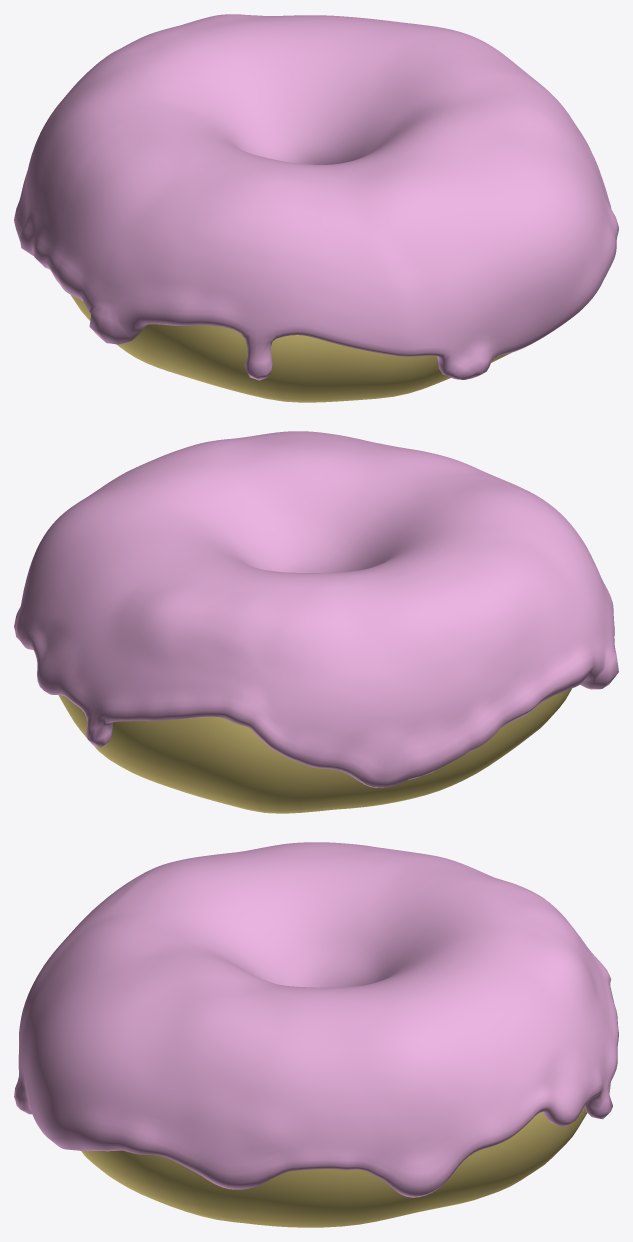
The model's file is NEWDonutnolight.fbx.
The picture shows the model from 3 angles, top to bottom: view 1: azimuth 30°, elevation 25°; view 2: azimuth 150°, elevation 25°; view 3: azimuth 270°, elevation 25°; orthographic projection.
Visible parts, largest first — view 1: Icing, Torus; view 2: Icing, Torus; view 3: Icing, Torus.
Boxes of the visible parts, x1,y1,x2,y2 form: Icing: (14, 14, 618, 380); Torus: (70, 294, 510, 402); Icing: (14, 431, 618, 787); Torus: (58, 688, 571, 813); Icing: (14, 842, 618, 1197); Torus: (81, 1106, 587, 1227).
Bounding box in the file's own units: 106 × 43.72 × 106.
